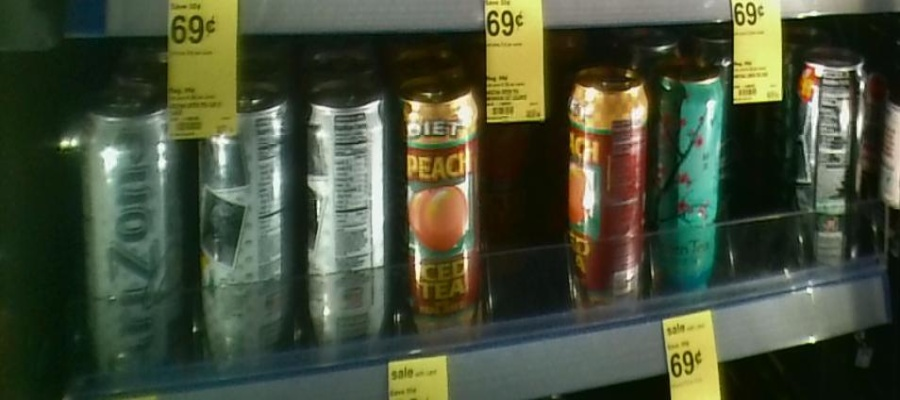bottle: (76, 90, 186, 392), (190, 73, 296, 378), (393, 52, 485, 360), (300, 72, 389, 362), (559, 62, 648, 310), (654, 48, 730, 294), (793, 42, 873, 262)
